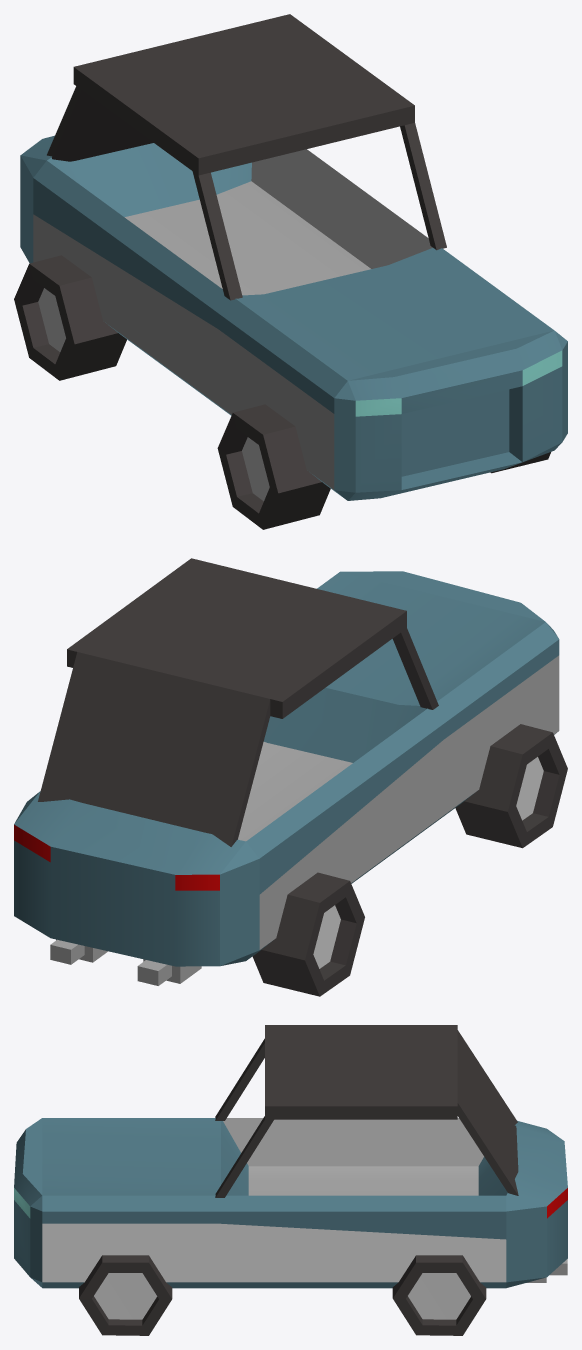
File: MainCar.fbx
The picture shows the model from 3 angles, top to bottom: view 1: azimuth 30°, elevation 25°; view 2: azimuth 150°, elevation 25°; view 3: azimuth 270°, elevation 25°; orthographic projection. The views are drawn at different scales.
Parts seen in each view (by area): view 1: MainCar; view 2: MainCar; view 3: MainCar.
Part boxes in pixels (x1,y1,x2,y2): MainCar: (14, 14, 567, 529); MainCar: (14, 558, 567, 996); MainCar: (14, 1025, 567, 1335).
Size of the model in its own units: 10.05 by 9.57 by 21.94.
